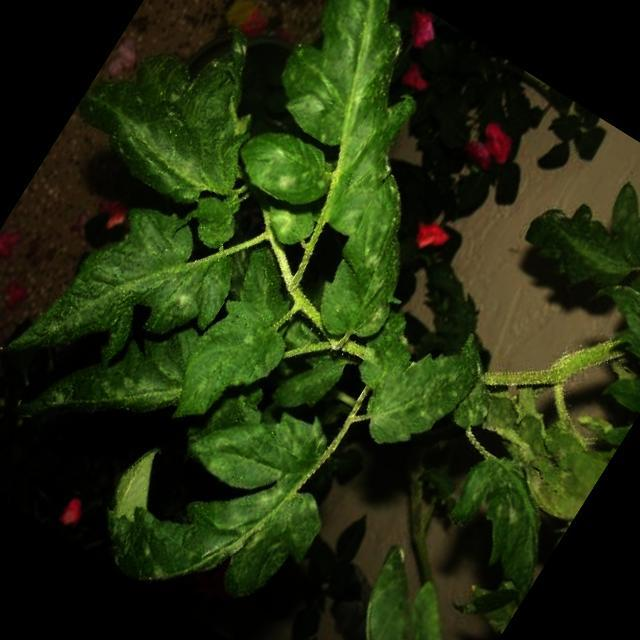Tomato mold leaf: (74, 349, 371, 640), (0, 161, 260, 440), (61, 0, 289, 219), (242, 0, 478, 193), (294, 167, 456, 353), (421, 438, 584, 598), (348, 314, 492, 475), (309, 542, 510, 640), (222, 110, 346, 224)
